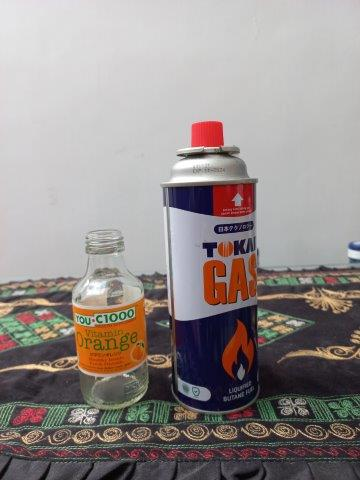botolkaca: (72, 229, 149, 408)
kaleng: (162, 123, 259, 412)
